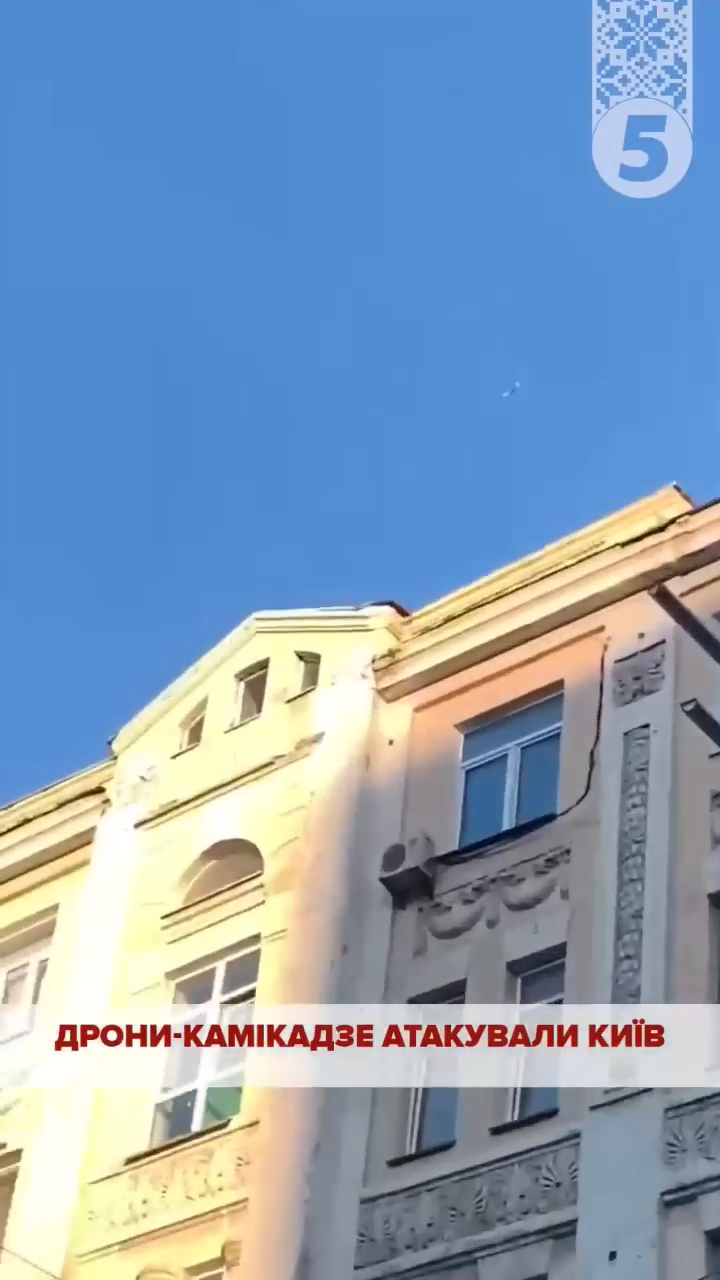shahed: (500, 377, 523, 401)
